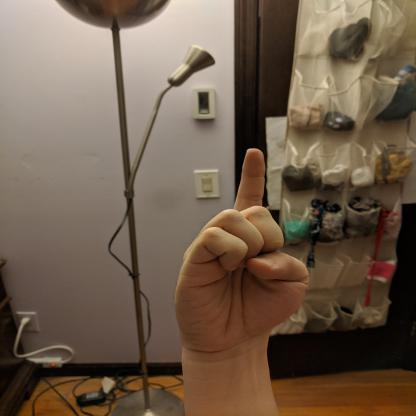D: (168, 145, 314, 360)
